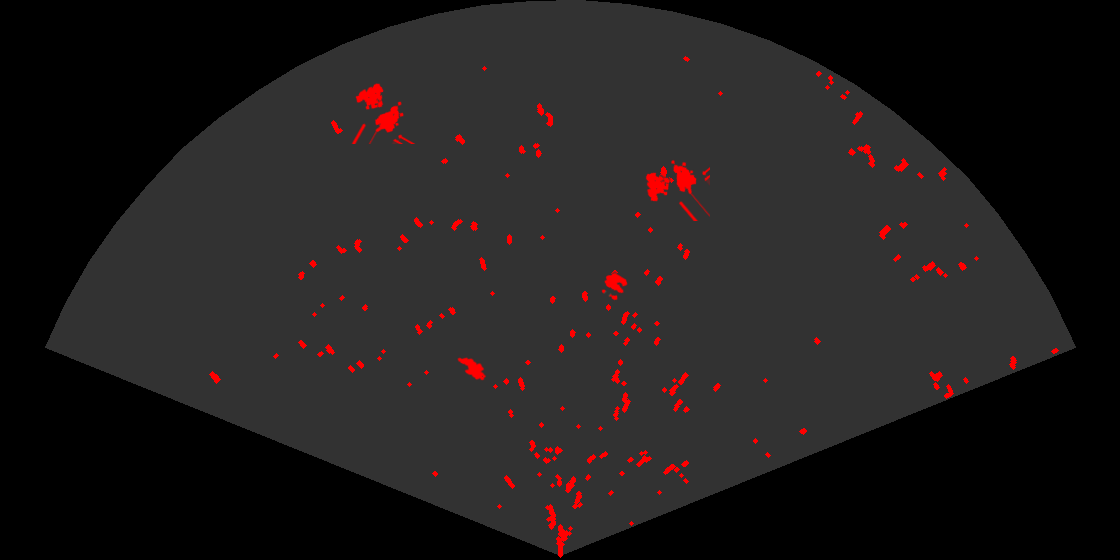AUV: (456, 356, 488, 382)
ball: (600, 271, 629, 302)
cage: (644, 158, 710, 221), (350, 82, 417, 144)
